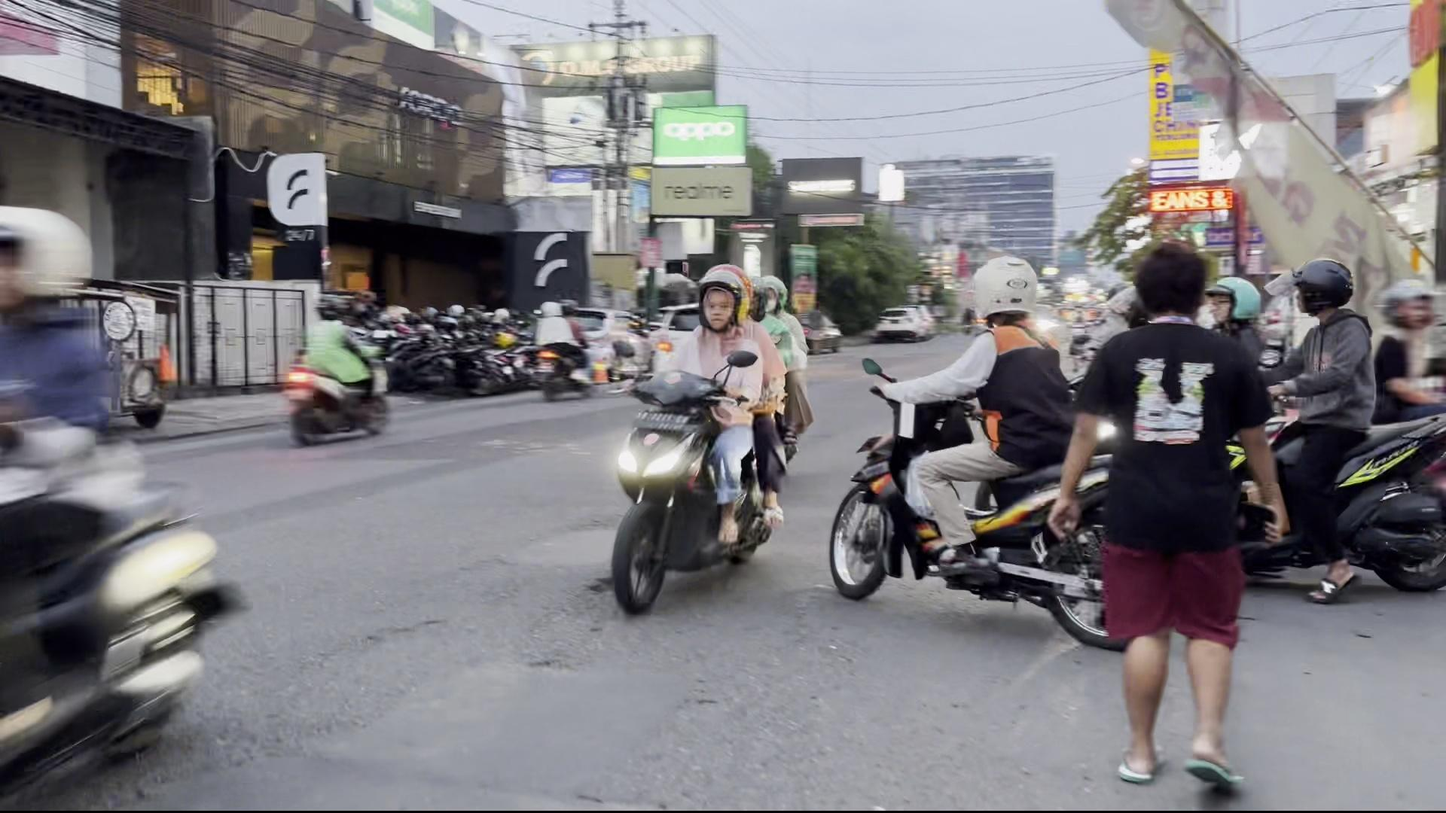helm: (1265, 254, 1364, 319)
